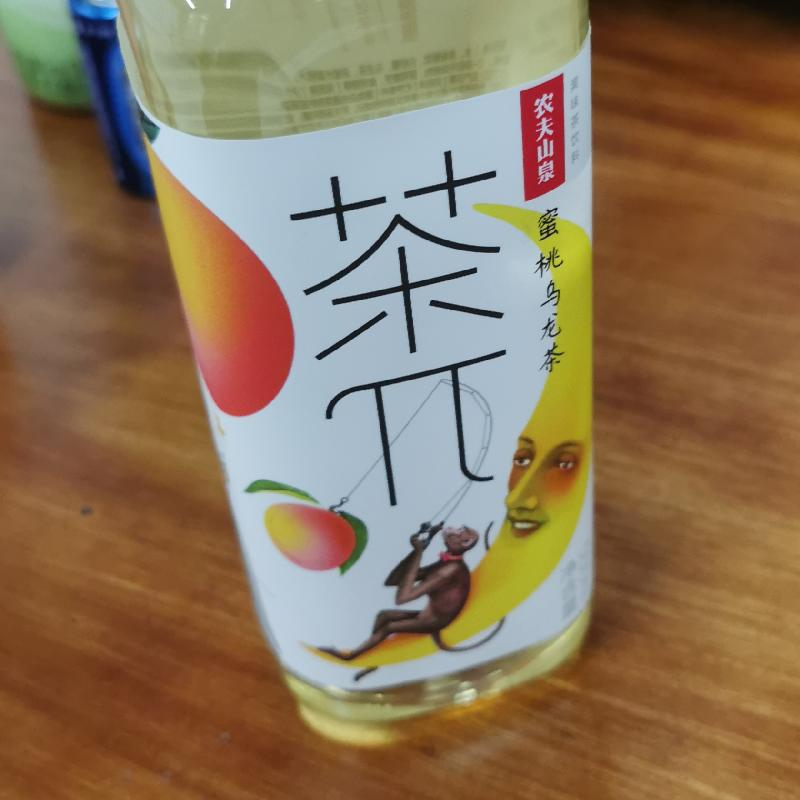bottles: (100, 4, 647, 729)
